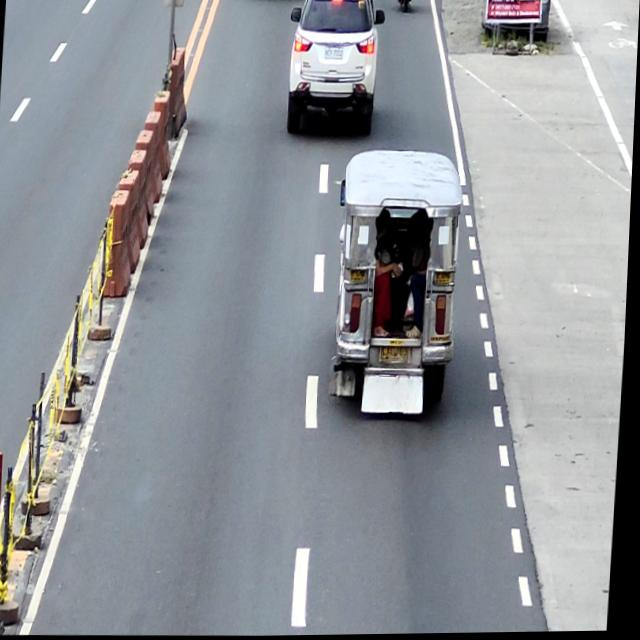Car: (283, 0, 385, 136)
Jeep: (331, 147, 468, 419)
License-Plate: (383, 345, 412, 366), (324, 47, 343, 60)
